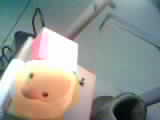duck: (23, 55, 79, 109)
